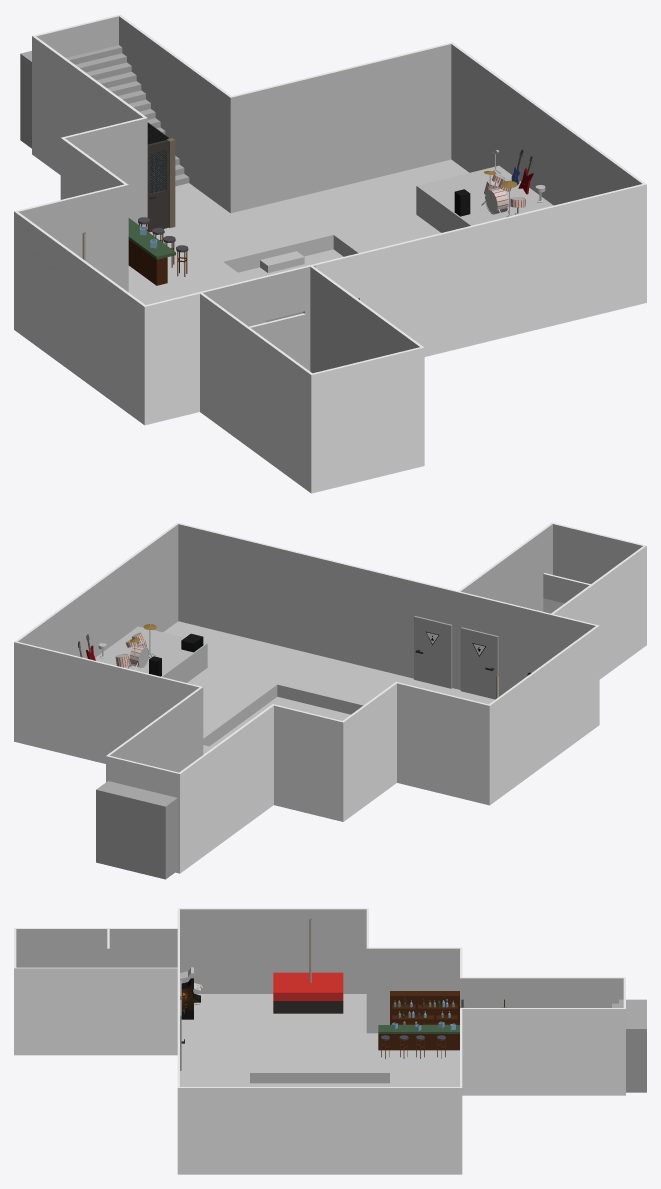
File: arcade.fbx
3 renders of one model, top to bottom at view 1: azimuth 30°, elevation 25°; view 2: azimuth 150°, elevation 25°; view 3: azimuth 270°, elevation 25°, orthographic. The views are drawn at different scales.
Visible parts, largest first — view 1: ObWaende, ObStage, ObTreppe, ObPlakat, ObKasse, ObTheke; view 2: ObWaende, ObTreppe, ObStage, ObWCDamen, ObWCHerren, ObPlakat; view 3: ObWaende, ObPoledance, ObRegal, ObTreppe, ObTheke, ObArcadePrince, ObFlaschen.
Part boxes in pixels (x1,y1,x2,y2): ObWaende: (14,14,646,493); ObStage: (416,149,553,232); ObTreppe: (20,45,189,186); ObPlakat: (193,87,226,194); ObKasse: (147,122,175,232); ObTheke: (128,218,175,285); ObWaende: (14,522,646,873); ObTreppe: (96,781,177,879); ObStage: (78,622,207,682); ObWCDamen: (414,616,452,688); ObWCHerren: (460,627,498,699); ObPlakat: (172,703,200,772); ObWaende: (14,908,625,1174); ObPoledance: (273,918,343,1013); ObRegal: (390,991,459,1024); ObTreppe: (612,999,646,1092); ObTheke: (378,1025,459,1050); ObArcadePrince: (181,978,200,1019); ObFlaschen: (393,999,454,1024).
Bounding box in the file's own units: 18.2 × 4.6 × 27.1.
